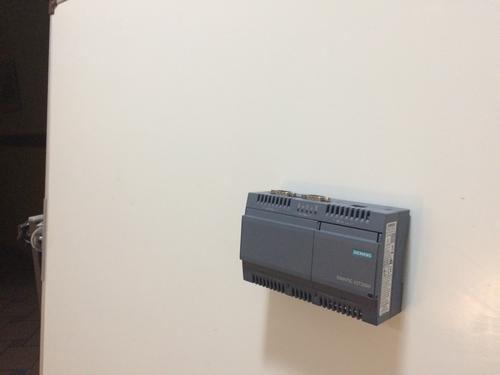iot2000: (238, 188, 411, 326)
